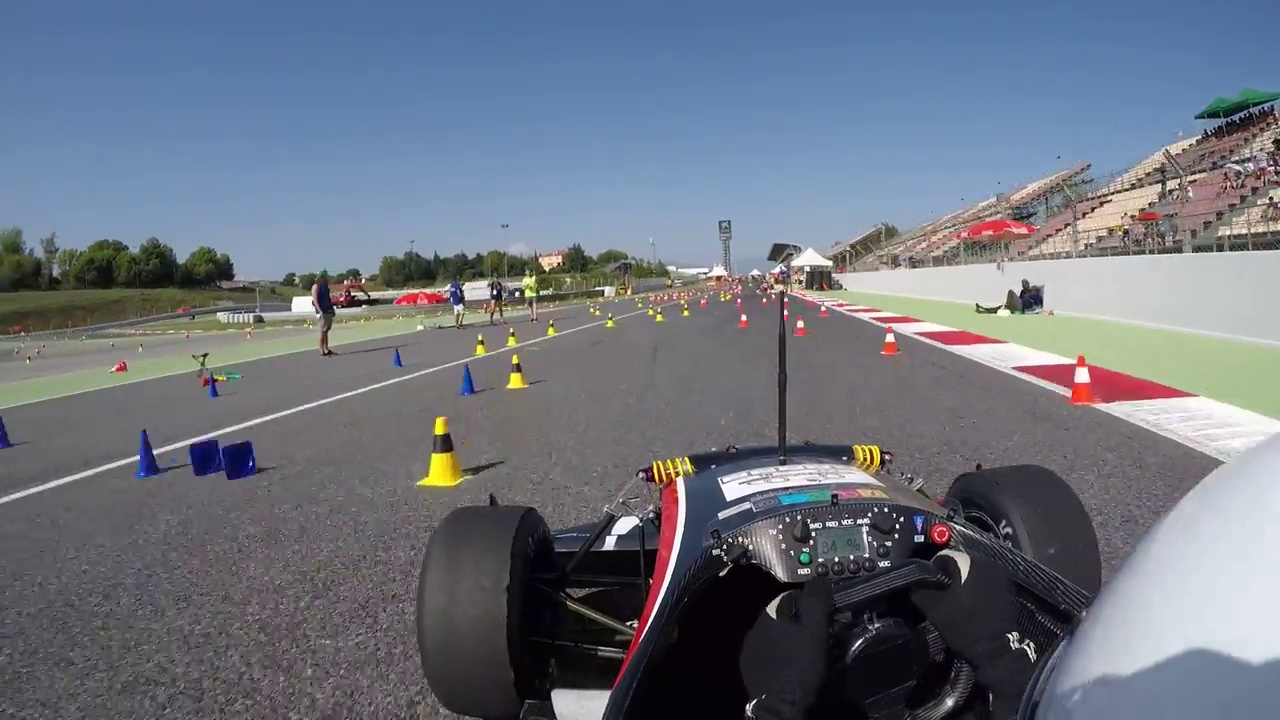Cone: (420, 411, 466, 489), (134, 426, 162, 482), (1067, 354, 1099, 403), (503, 354, 529, 390), (459, 359, 479, 395)
